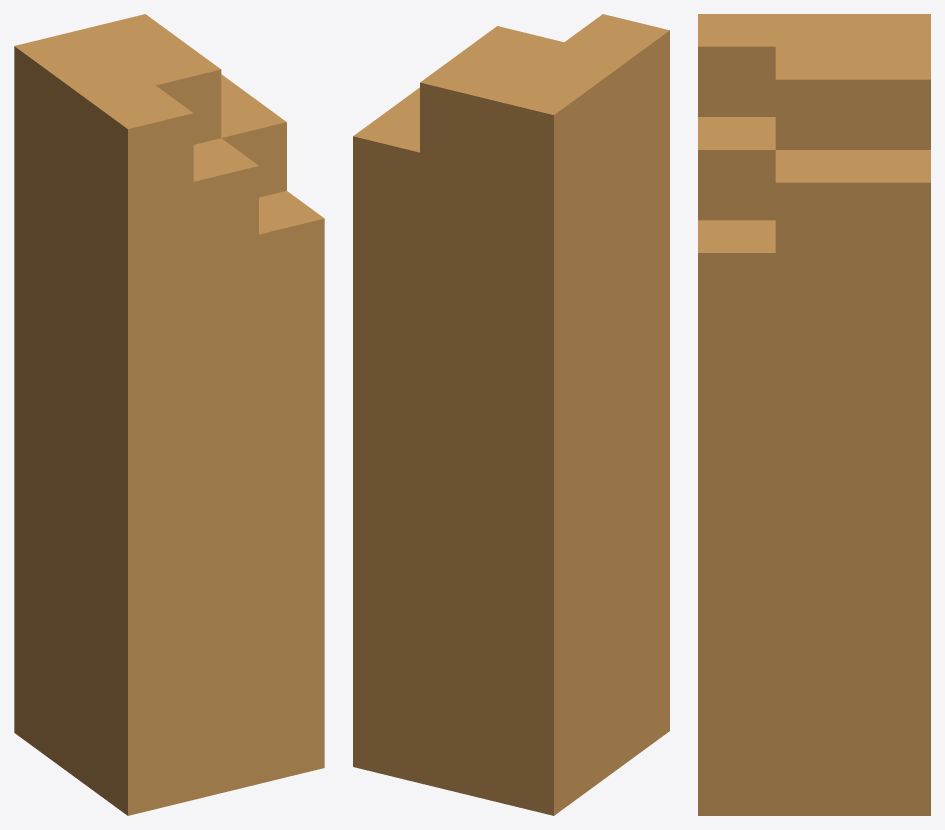
File: lion__leg_br.glb
3 renders of one model, left to right at view 1: azimuth 30°, elevation 25°; view 2: azimuth 150°, elevation 25°; view 3: azimuth 270°, elevation 25°, orthographic. The views are drawn at different scales.
Visible parts, largest first — view 1: lion__leg_br; view 2: lion__leg_br; view 3: lion__leg_br.
Boxes of the visible parts, box(x1,y1,x2,y2) form: lion__leg_br: box(14, 14, 324, 815); lion__leg_br: box(353, 14, 669, 815); lion__leg_br: box(698, 14, 930, 815).
Size of the model in its own units: 0.3 by 1 by 0.3.
1 material, 1 textured.
